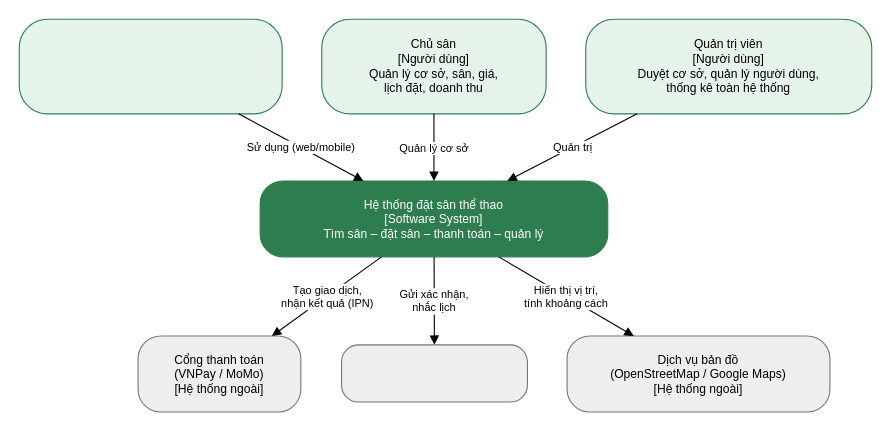
Image size: 891x431. Some labels were removed from this diagram. Here are the shapes that lost their labels. From the top down, the centre of each, then its label:
At (x=150, y=66): "Khách hàng [Người dùng] Tìm sân, đặt sân, thanh toán, hủy, đánh giá".
At (x=433, y=373): "Dịch vụ Email / SMS [Hệ thống ngoài]".
